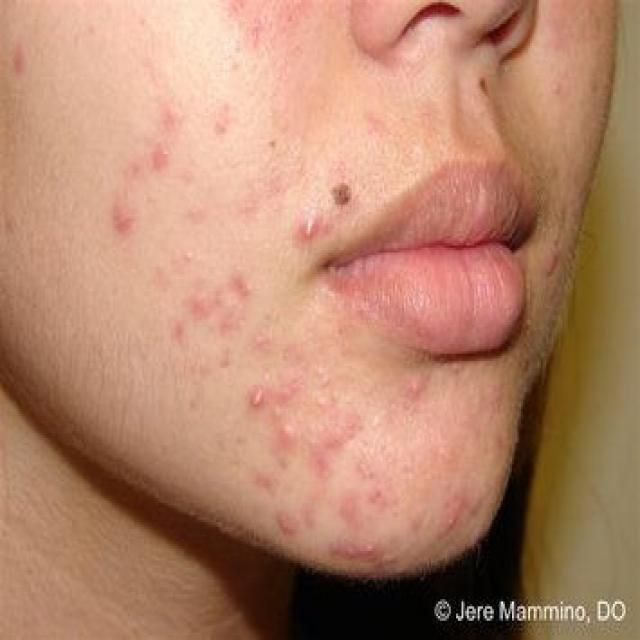Acne: (271, 447, 488, 568), (252, 369, 509, 451), (162, 252, 278, 374), (104, 190, 148, 240), (294, 212, 336, 256), (224, 3, 262, 48), (140, 140, 180, 182), (152, 243, 206, 267), (210, 92, 232, 144), (10, 42, 28, 78), (165, 102, 183, 131)
